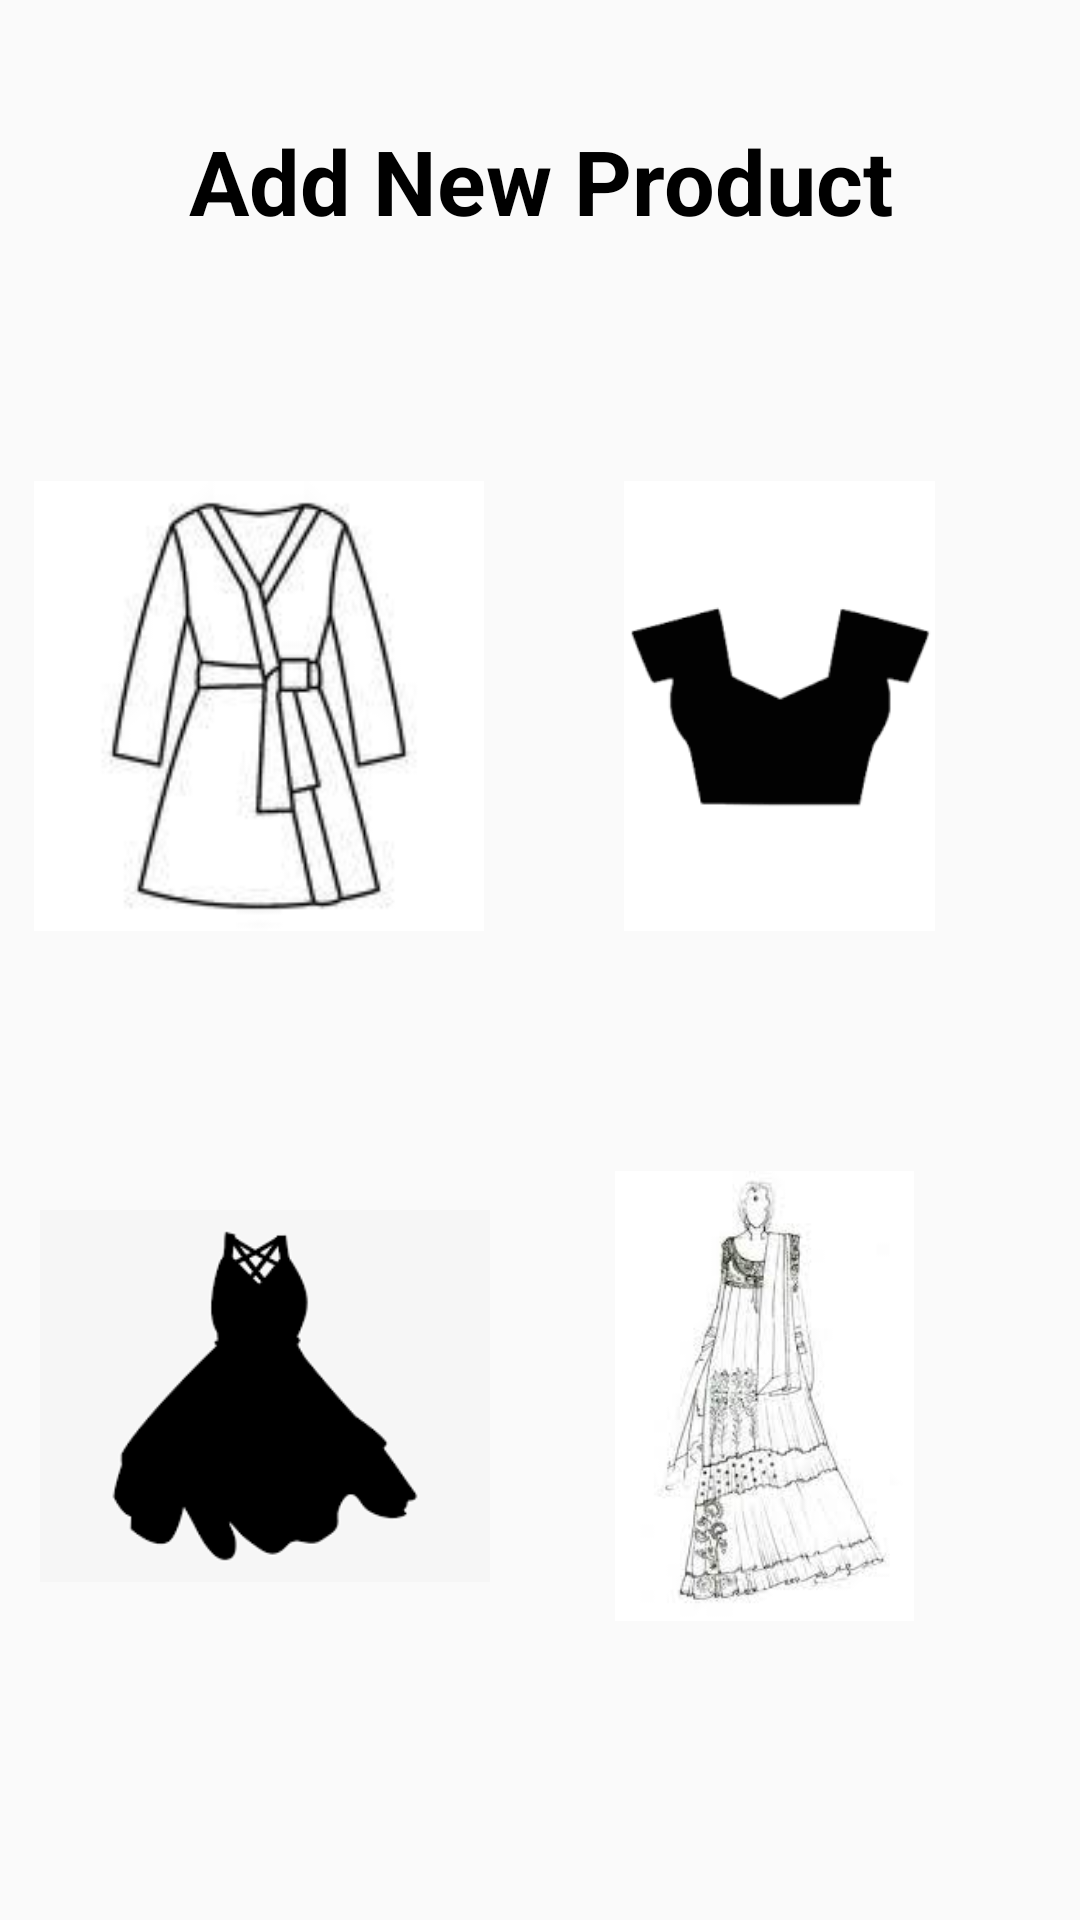

Where icons sit on this 1080 × 1920 app screen, as bbox=[x1, y1, x2, y2]:
dress: bbox=[112, 1231, 418, 1561]
